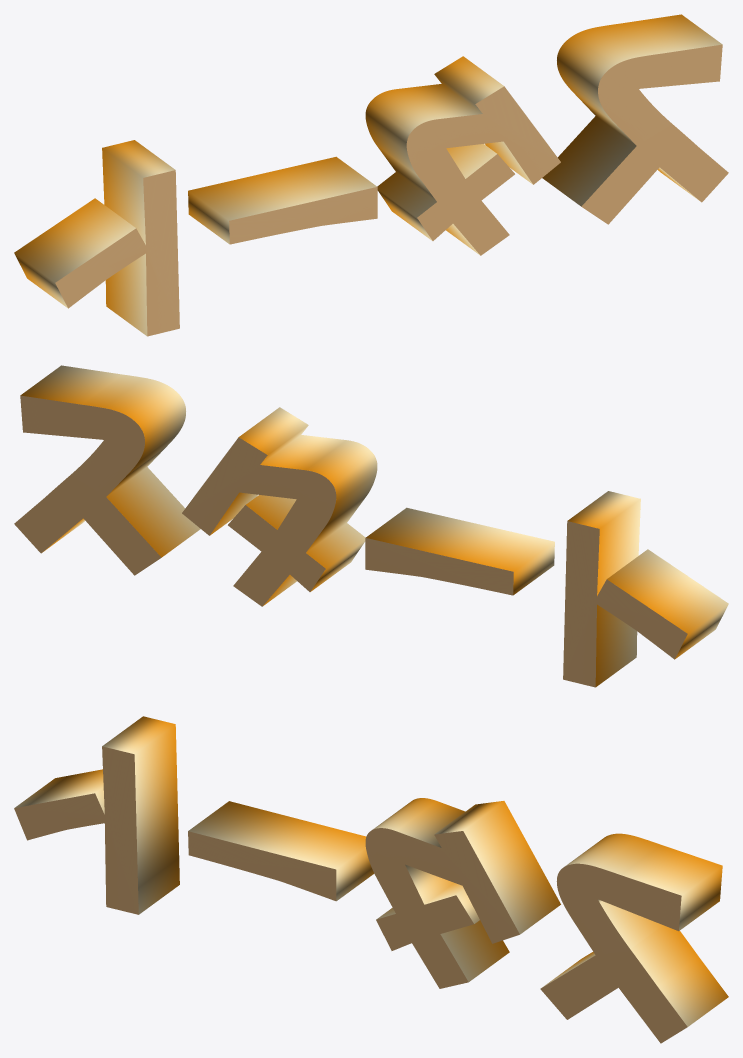
The model's file is start_moji.obj.
3 views of the same model, one above another, from view 1: azimuth 30°, elevation 25°; view 2: azimuth 150°, elevation 25°; view 3: azimuth 330°, elevation 25° (orthographic).
Parts seen in each view (by area): view 1: テキスト; view 2: テキスト; view 3: テキスト.
Part boxes in pixels (left/top/right/bottom): テキスト: left=14, top=14, right=728, bottom=336; テキスト: left=14, top=365, right=728, bottom=687; テキスト: left=14, top=716, right=728, bottom=1043.
Size of the model in its own units: 2.74 by 0.6388 by 0.2893.
